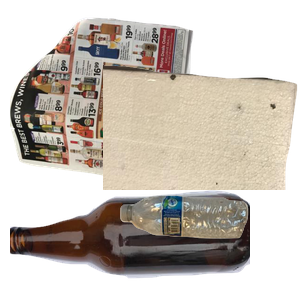glass: (10, 188, 250, 300)
paper: (10, 15, 196, 195)
plastic: (118, 193, 300, 300)
trash: (103, 62, 300, 242)
